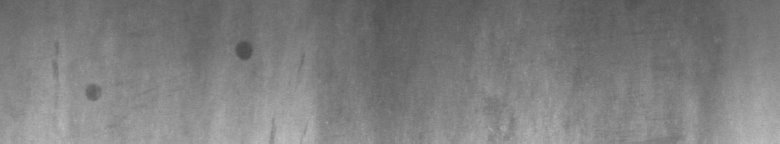fi: (228, 33, 307, 136)
